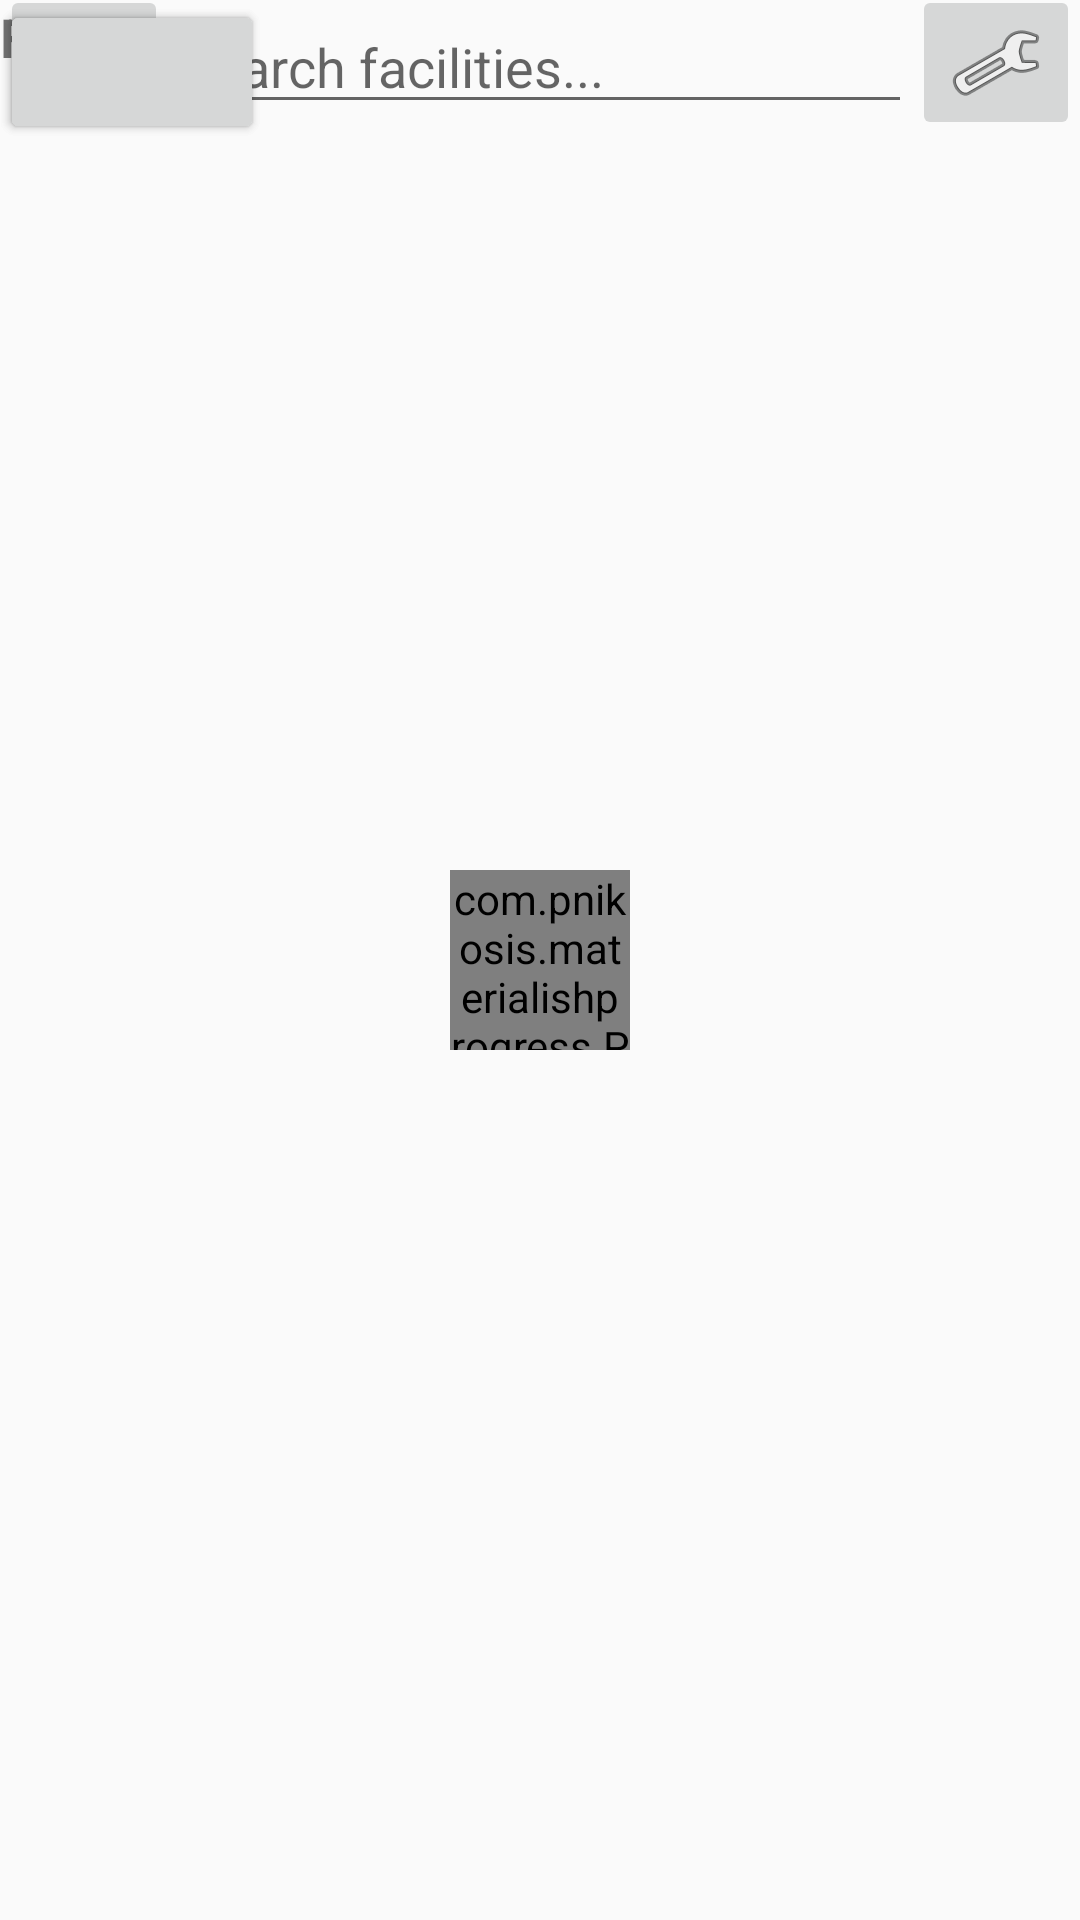

Named icons in this screenshot (1080 x 1920) and their centers, (x=x, y=y):
preferences: (x=996, y=62)
